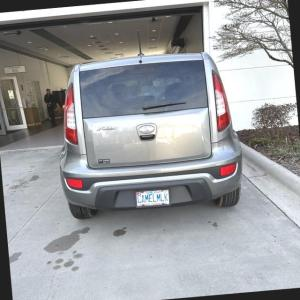Plate: (133, 187, 172, 209)
